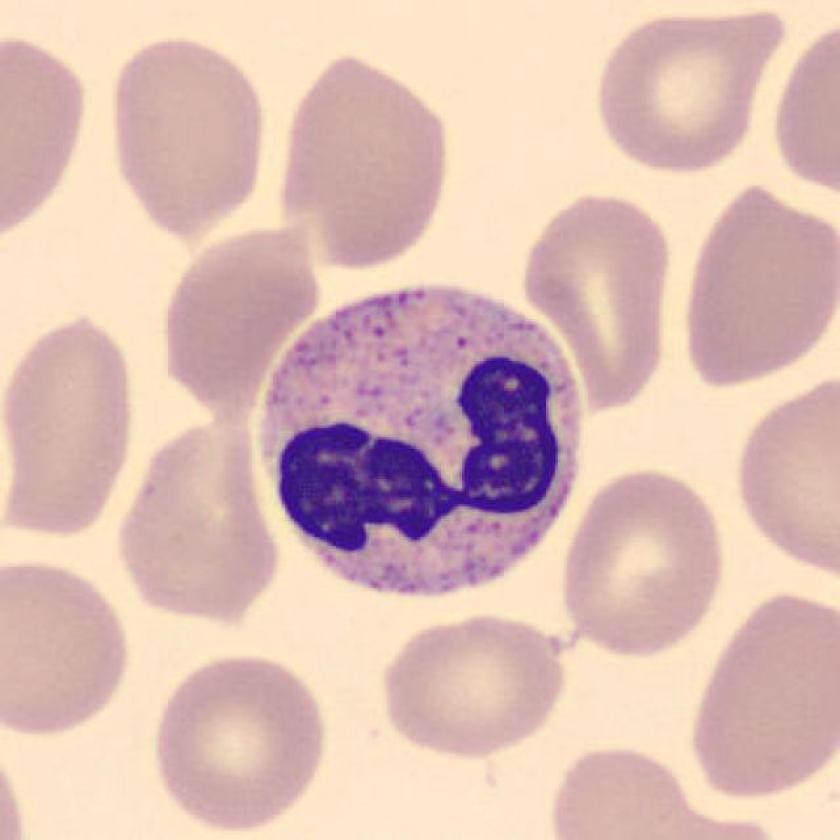neutrophil: (258, 287, 584, 598)
